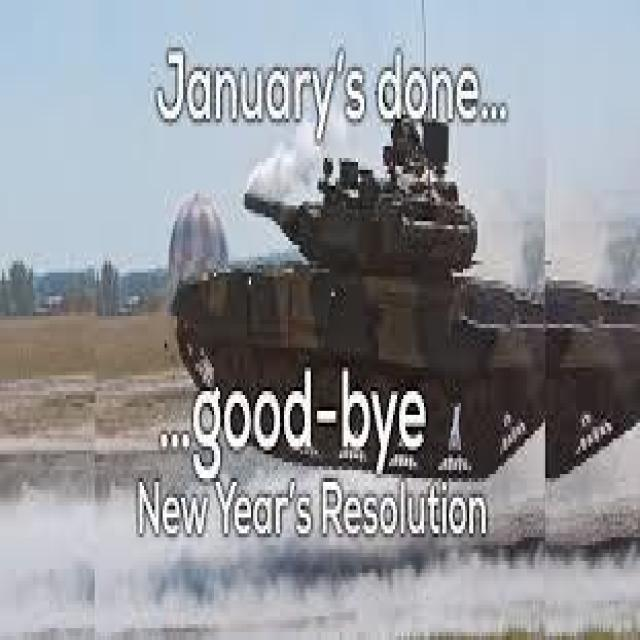MIL_MBT: (157, 128, 635, 484)
